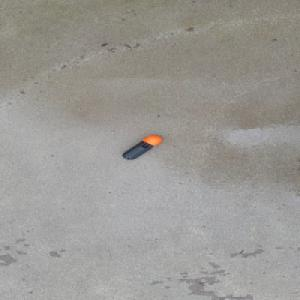PlasticPart: (120, 135, 163, 160)
